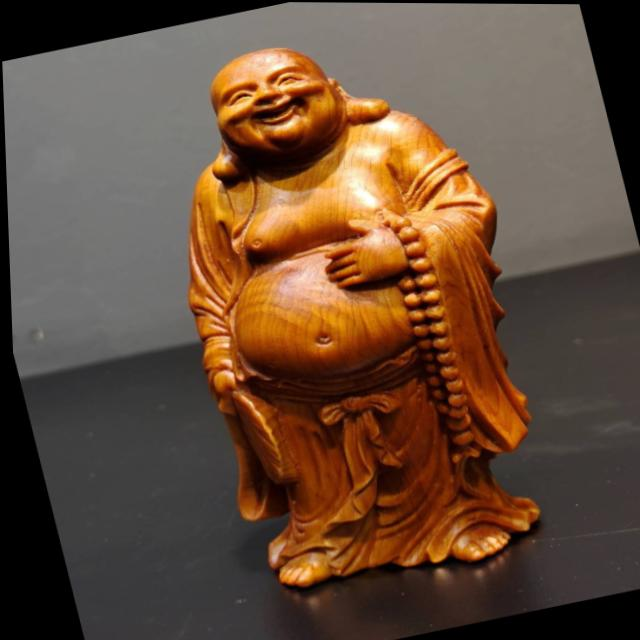Smiling Buddha: (136, 7, 544, 584)
